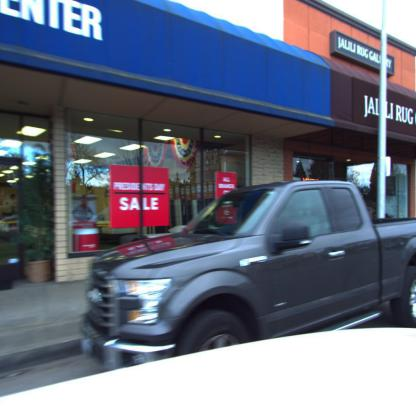car: (84, 178, 416, 357)
